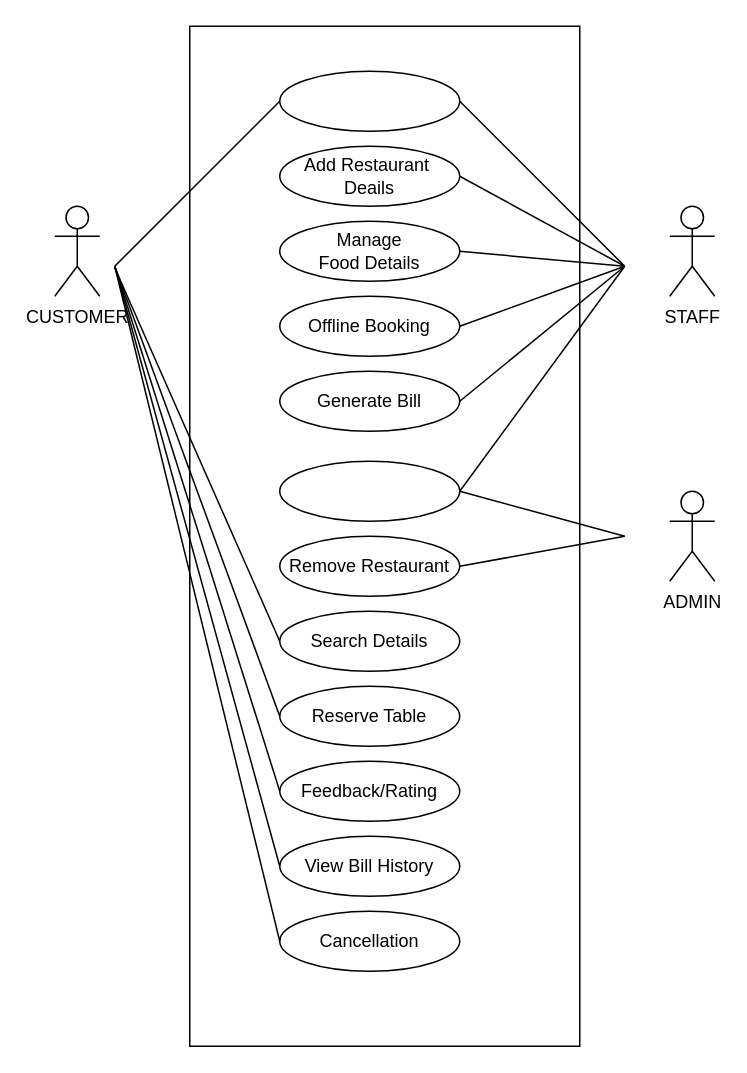
Image size: 747x1073. Some labels were removed from this diagram. Here are the shapes that lost their labels. From the top down, the box of each, then its label:
(278, 70, 460, 131): Registration
(278, 460, 460, 521): Verification
